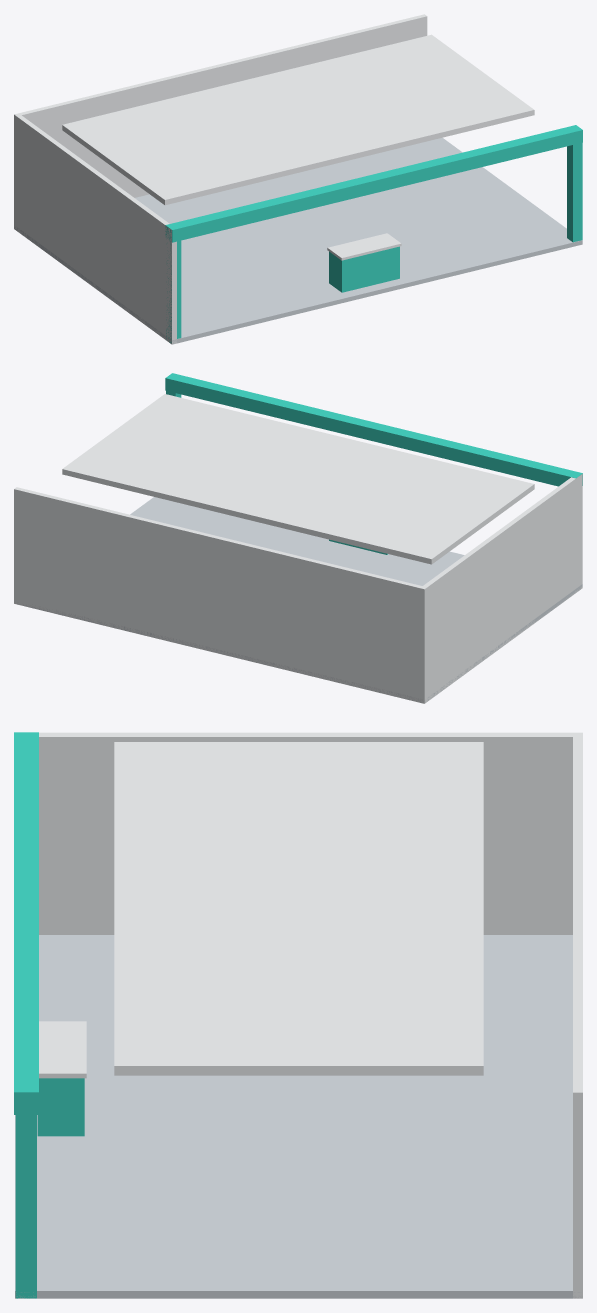
3 views of the same model, one above another, from view 1: azimuth 30°, elevation 25°; view 2: azimuth 150°, elevation 25°; view 3: azimuth 270°, elevation 25° (orthographic). The views are drawn at different scales.
Visible parts, largest first — view 1: Exhibition Booth Concept; view 2: Exhibition Booth Concept; view 3: Exhibition Booth Concept.
Part boxes in pixels (x1,y1,x2,y2): Exhibition Booth Concept: [14, 14, 582, 344]; Exhibition Booth Concept: [14, 373, 582, 703]; Exhibition Booth Concept: [14, 732, 582, 1298].
Size of the model in its own units: 12 by 3.34 by 8.01.
